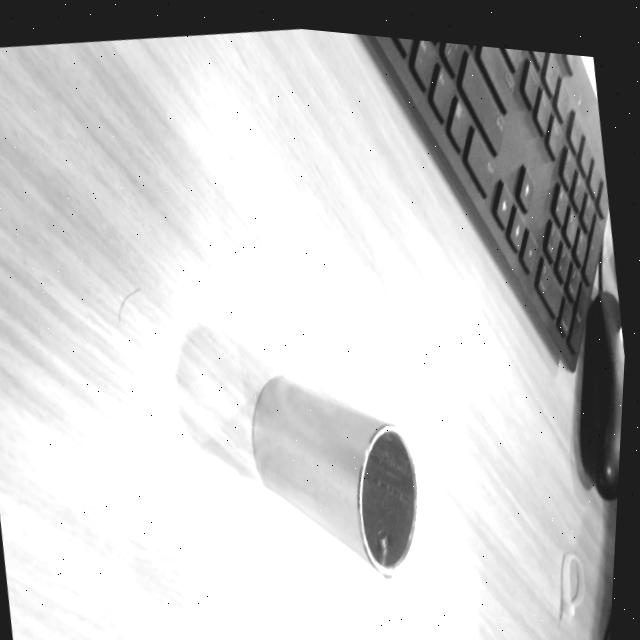Co_Lon: (214, 352, 464, 580)
